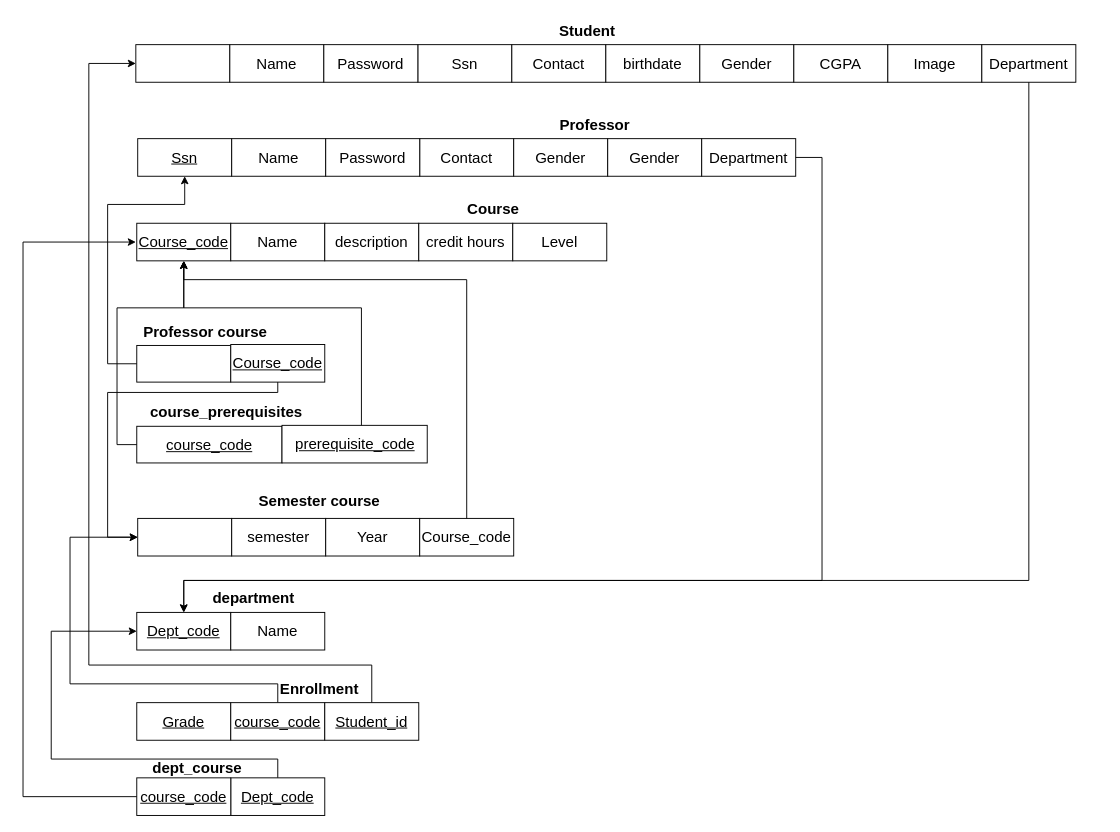
This 1120x832 diagram has some shape labels left out. The centre of each missing label's shape, as x and y in pixels:
Code: the point at 184,536
Id: the point at 182,63
Proff_Ssn: the point at 183,363
